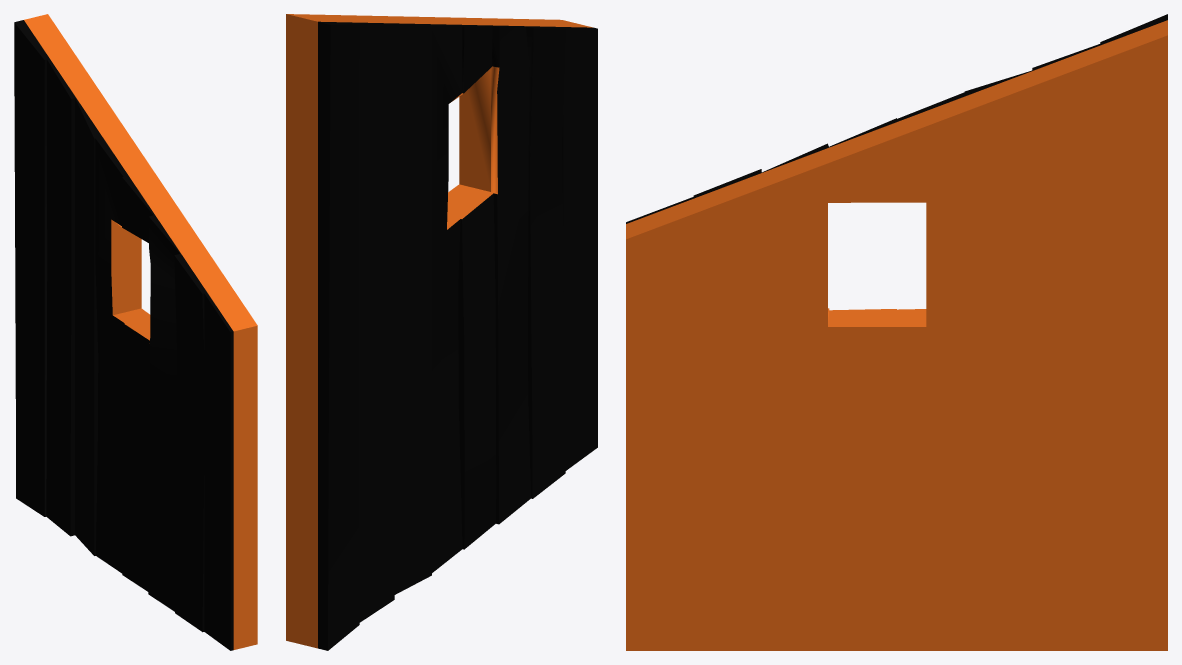
Rendered from MurFerme1erEtageFenetre02.fbx.
The picture shows the model from 3 angles, left to right: view 1: azimuth 30°, elevation 25°; view 2: azimuth 150°, elevation 25°; view 3: azimuth 270°, elevation 25°; orthographic projection. The views are drawn at different scales.
Parts seen in each view (by area): view 1: MurFerme1erEtageFenetre02; view 2: MurFerme1erEtageFenetre02; view 3: MurFerme1erEtageFenetre02.
Part boxes in pixels (x1,y1,x2,y2): MurFerme1erEtageFenetre02: (14,14,257,650); MurFerme1erEtageFenetre02: (286,14,597,650); MurFerme1erEtageFenetre02: (626,14,1167,650).
Bounding box in the file's own units: 55.85 × 752 × 600.
